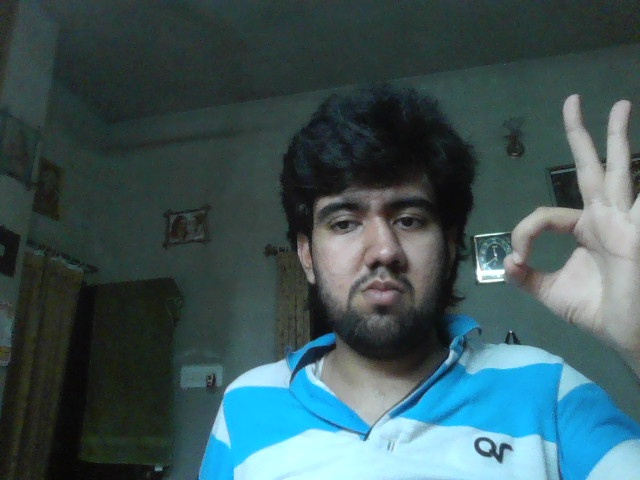Nice: (505, 93, 640, 368)
